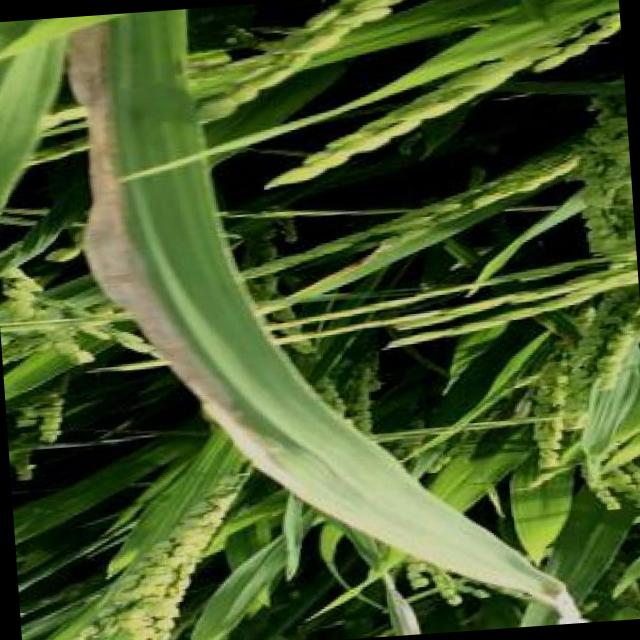Rice_Bacterial_Blight: (59, 12, 222, 370)
